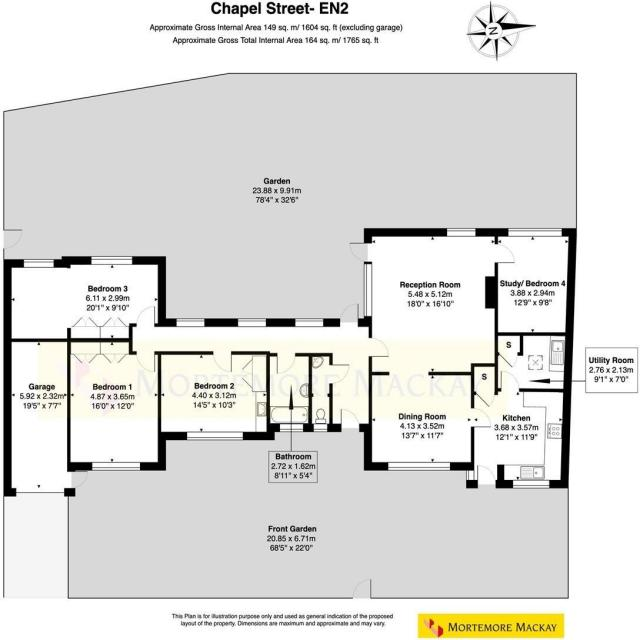DOOR: (339, 302, 360, 327), (349, 241, 372, 263), (476, 465, 496, 489), (340, 408, 360, 432), (499, 370, 520, 392), (368, 337, 390, 358), (470, 407, 492, 428), (494, 243, 516, 264), (136, 351, 156, 373), (329, 364, 350, 384), (276, 353, 296, 374), (135, 306, 155, 327), (213, 351, 232, 373)
ROOM: (348, 228, 516, 471), (3, 256, 166, 342), (67, 338, 166, 471), (466, 370, 572, 489), (157, 351, 275, 440), (485, 228, 577, 336)
WINDOW: (387, 461, 451, 471), (186, 431, 244, 441), (363, 263, 373, 318), (91, 461, 141, 471), (507, 228, 562, 237), (512, 479, 550, 489), (91, 256, 133, 265), (446, 227, 477, 238), (175, 317, 206, 328), (294, 317, 324, 328), (23, 259, 55, 268), (237, 318, 267, 327), (279, 423, 304, 433), (313, 424, 328, 433), (465, 470, 475, 481)
